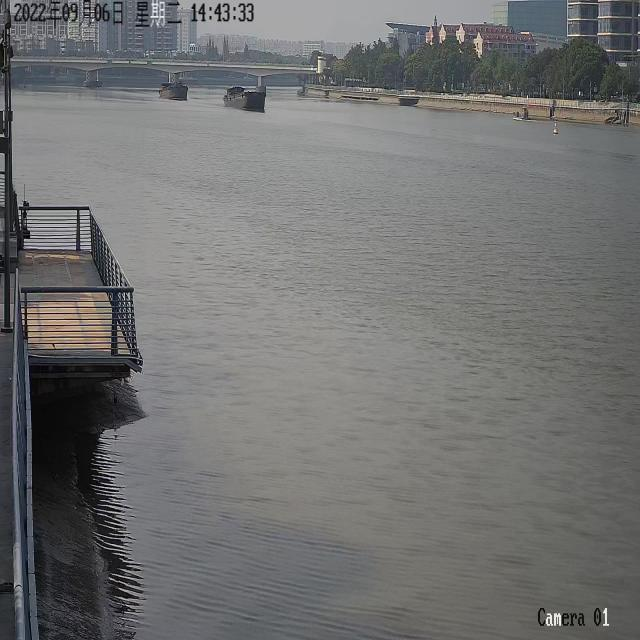ship: (223, 85, 266, 108), (158, 82, 188, 100), (512, 105, 530, 121)
